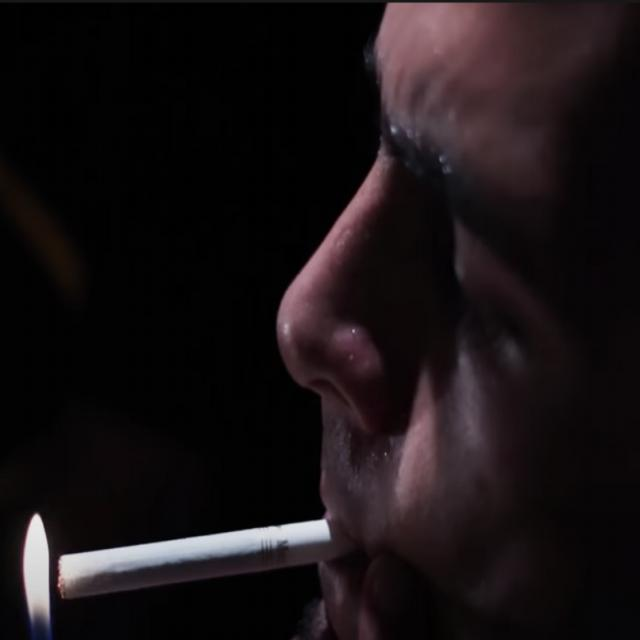smoke: (49, 490, 344, 601)
